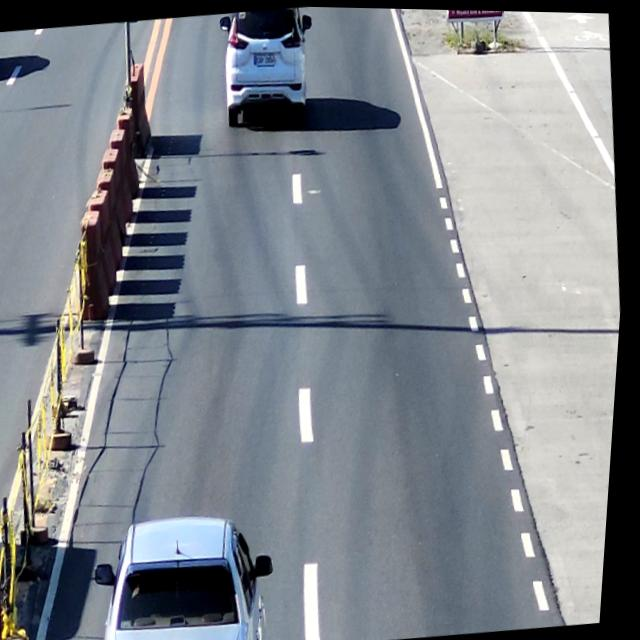Car: (90, 504, 290, 640), (214, 4, 321, 134)
License-Plate: (251, 46, 279, 68)
